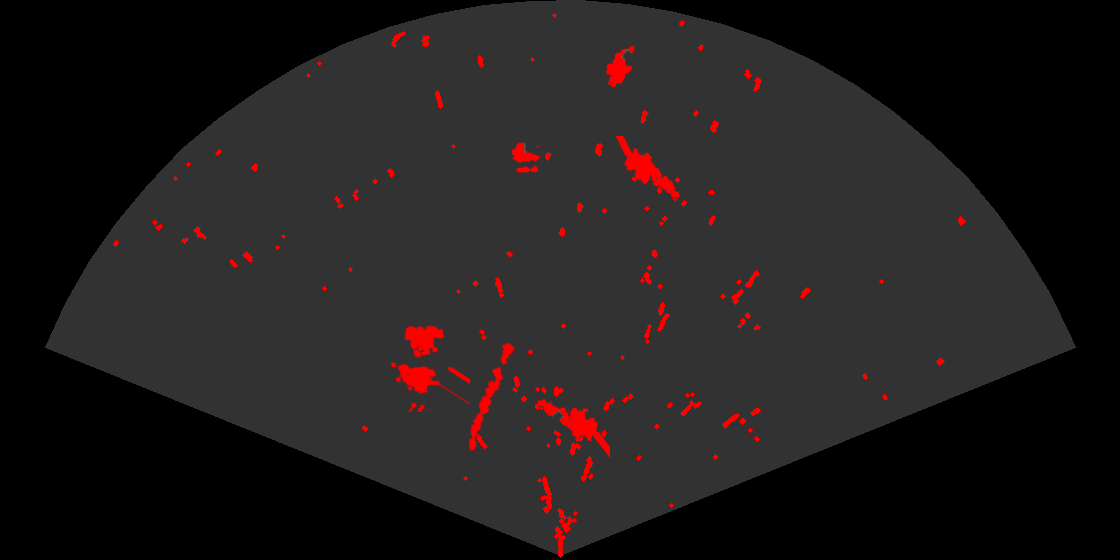AUV: (604, 44, 636, 89)
ball: (510, 141, 542, 174)
cage: (389, 324, 470, 412)
chain: (467, 341, 517, 453)
frogman: (536, 398, 610, 457), (614, 136, 681, 200)
